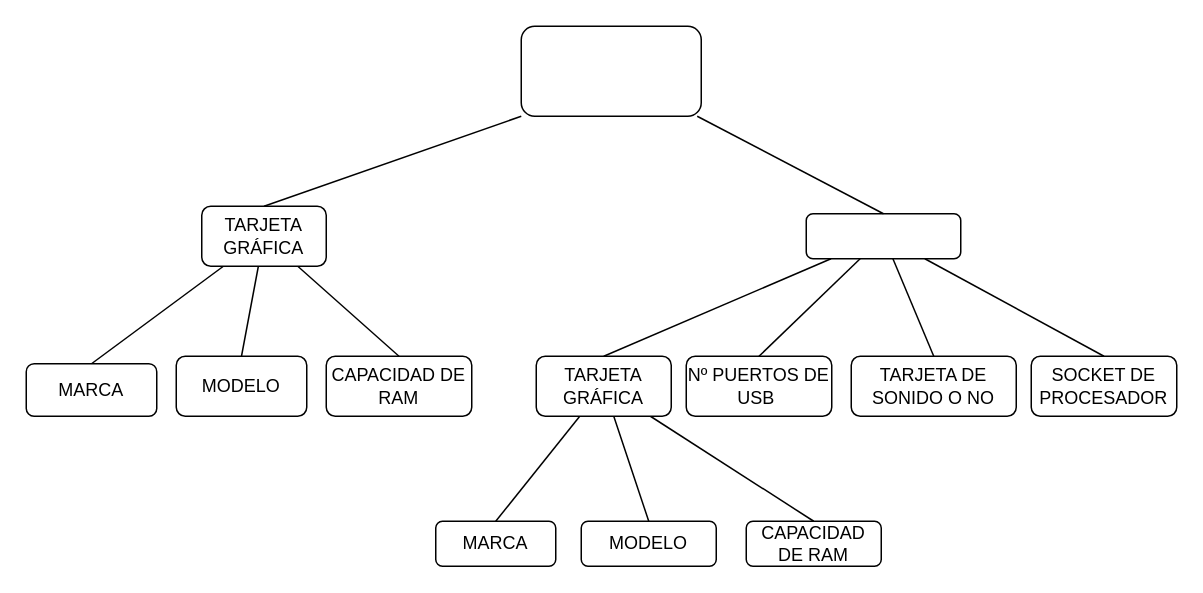
Image size: 1203x593. Some labels were removed from this diagram. The centre of each missing label's shape, as x and y in pixels:
ALMACÉN: the point at 610,70
PLACAS BASES: the point at 883,235
